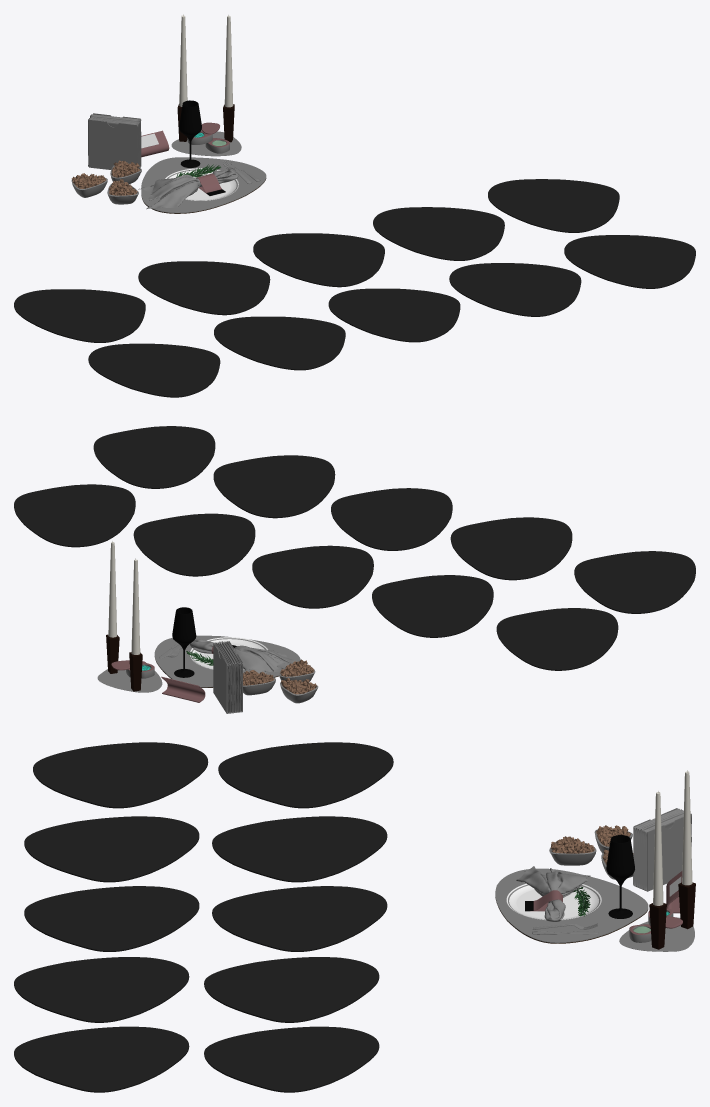
File: service_set.fbx
The picture shows the model from 3 angles, top to bottom: view 1: azimuth 30°, elevation 25°; view 2: azimuth 150°, elevation 25°; view 3: azimuth 270°, elevation 25°; orthographic projection. The views are drawn at different scales.
Visible parts, largest first — view 1: napkin is almost round_SF02, napkin is almost round_SF03, napkin is almost round_SF07, napkin is almost round_SF06, napkin is almost round_SF04, napkin is almost round_SF09, napkin is almost round_SF01, napkin is almost round_SF05, napkin is almost round_SF10, napkin is almost round_SF08, napkin is almost round_SF11, Napkin holder (+7 smaller); view 2: napkin is almost round_SF07, napkin is almost round_SF01, napkin is almost round_SF10, napkin is almost round_SF04, napkin is almost round_SF08, napkin is almost round_SF03, napkin is almost round_SF05, napkin is almost round_SF06, napkin is almost round_SF09, napkin is almost round_SF02, napkin is almost round_SF11, Napkin01SF (+9 smaller); view 3: napkin is almost round_SF07, napkin is almost round_SF05, napkin is almost round_SF06, napkin is almost round_SF09, napkin is almost round_SF08, napkin is almost round_SF02, napkin is almost round_SF03, napkin is almost round_SF01, napkin is almost round_SF04, napkin is almost round_SF10, napkin is almost round_SF11, Napkin holder (+10 smaller).
Part boxes in pixels (bbox=[...]): napkin is almost round_SF02: bbox=[88, 343, 220, 397]; napkin is almost round_SF03: bbox=[328, 288, 460, 342]; napkin is almost round_SF07: bbox=[214, 316, 345, 370]; napkin is almost round_SF06: bbox=[138, 261, 270, 315]; napkin is almost round_SF04: bbox=[253, 233, 384, 287]; napkin is almost round_SF09: bbox=[488, 179, 619, 232]; napkin is almost round_SF01: bbox=[373, 207, 504, 260]; napkin is almost round_SF05: bbox=[14, 289, 145, 342]; napkin is almost round_SF10: bbox=[449, 263, 581, 316]; napkin is almost round_SF08: bbox=[564, 235, 695, 288]; napkin is almost round_SF11: bbox=[141, 157, 266, 213]; Napkin holder: bbox=[89, 113, 140, 169]; napkin is almost round_SF07: bbox=[450, 517, 572, 580]; napkin is almost round_SF01: bbox=[133, 513, 255, 576]; napkin is almost round_SF10: bbox=[213, 455, 335, 518]; napkin is almost round_SF04: bbox=[252, 545, 373, 608]; napkin is almost round_SF08: bbox=[93, 426, 215, 488]; napkin is almost round_SF03: bbox=[331, 488, 452, 550]; napkin is almost round_SF05: bbox=[496, 608, 618, 670]; napkin is almost round_SF06: bbox=[372, 575, 493, 637]; napkin is almost round_SF09: bbox=[14, 484, 135, 547]; napkin is almost round_SF02: bbox=[574, 551, 695, 613]; napkin is almost round_SF11: bbox=[154, 635, 300, 687]; Napkin01SF: bbox=[190, 639, 297, 673]; napkin is almost round_SF07: bbox=[24, 816, 199, 882]; napkin is almost round_SF05: bbox=[218, 742, 393, 808]; napkin is almost round_SF06: bbox=[212, 816, 387, 882]; napkin is almost round_SF09: bbox=[204, 1026, 379, 1092]; napkin is almost round_SF08: bbox=[14, 1026, 189, 1092]; napkin is almost round_SF02: bbox=[33, 742, 208, 808]; napkin is almost round_SF03: bbox=[24, 886, 199, 951]; napkin is almost round_SF01: bbox=[204, 957, 379, 1022]; napkin is almost round_SF04: bbox=[212, 886, 387, 951]; napkin is almost round_SF10: bbox=[14, 957, 189, 1022]; napkin is almost round_SF11: bbox=[495, 868, 648, 943]; Napkin holder: bbox=[633, 808, 691, 891].
Size of the model in its own units: 2610 by 550 by 2155.
